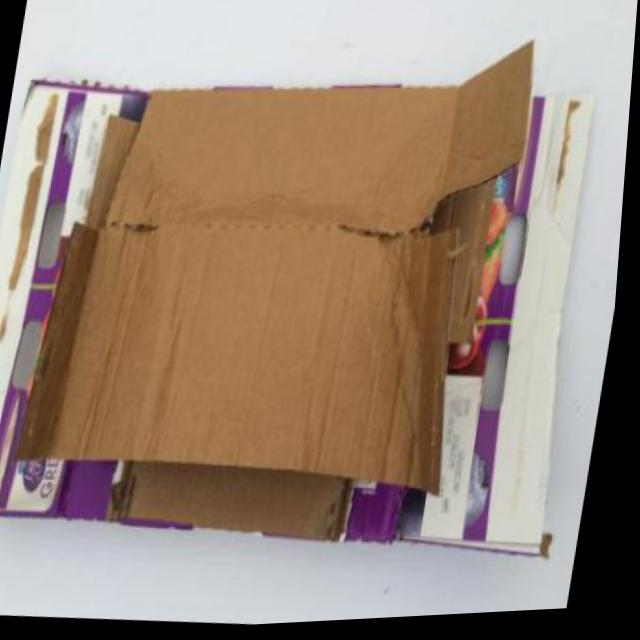box: (0, 0, 639, 622)
